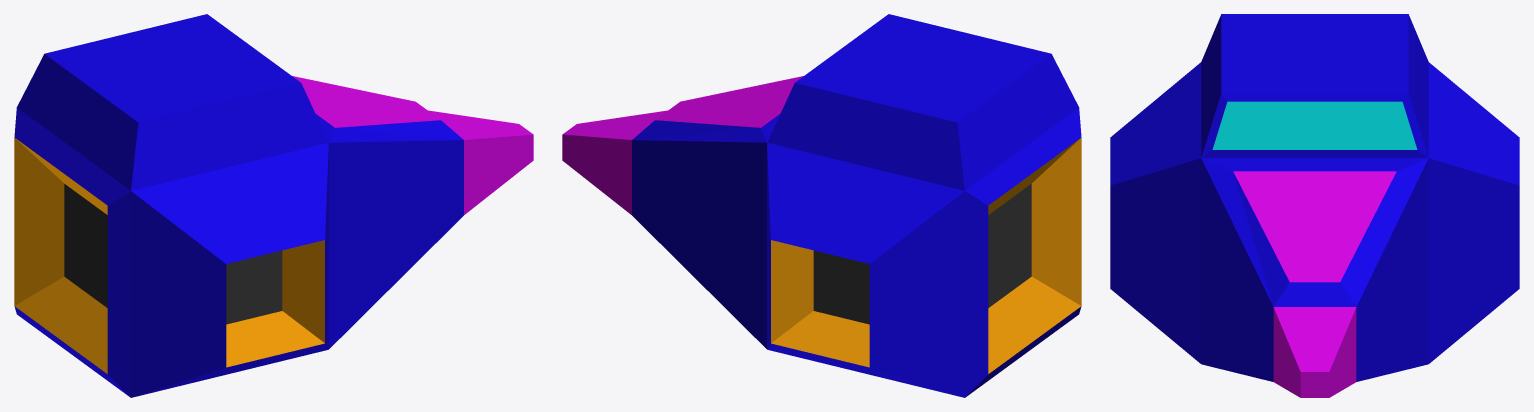
File: Invader1.dae
The picture shows the model from 3 angles, left to right: view 1: azimuth 30°, elevation 25°; view 2: azimuth 150°, elevation 25°; view 3: azimuth 270°, elevation 25°; orthographic projection.
Visible parts, largest first — view 1: Cube; view 2: Cube; view 3: Cube.
Boxes of the visible parts, x1,y1,x2,y2 form: Cube: (14,14,533,397); Cube: (562,14,1081,397); Cube: (1110,14,1519,397).
Bounding box in the file's own units: 1.18 × 0.9 × 0.637.
